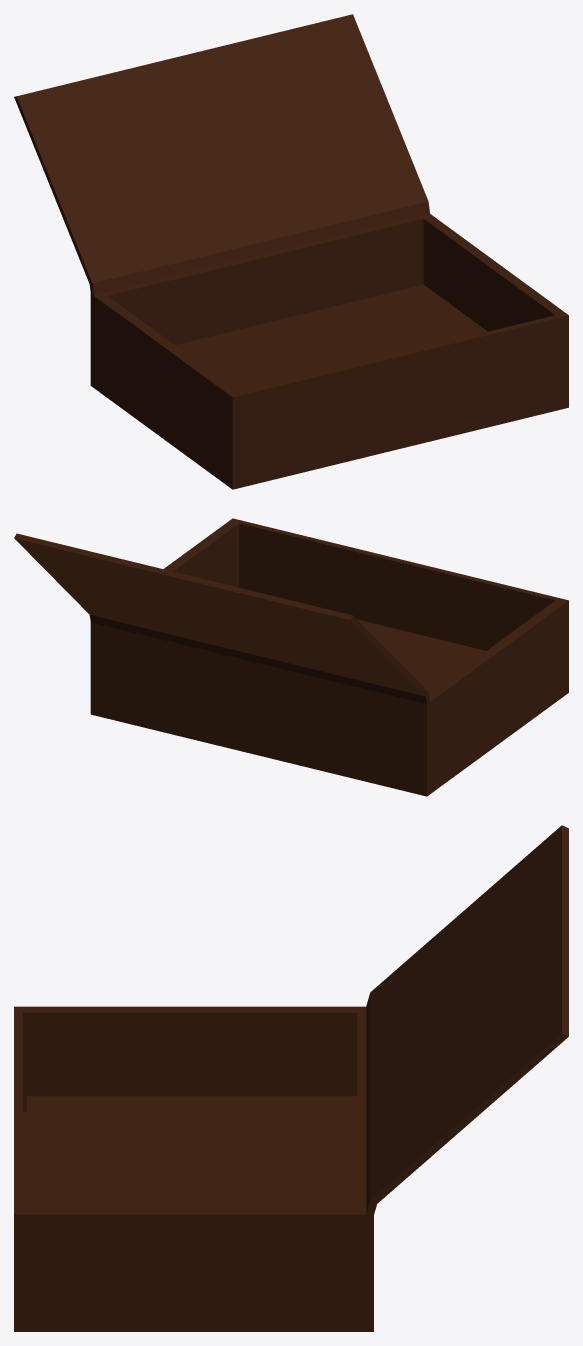
The model's file is pudełko.fbx.
The picture shows the model from 3 angles, top to bottom: view 1: azimuth 30°, elevation 25°; view 2: azimuth 150°, elevation 25°; view 3: azimuth 270°, elevation 25°; orthographic projection. The views are drawn at different scales.
Parts seen in each view (by area): view 1: Pudełko od cukru001; view 2: Pudełko od cukru001; view 3: Pudełko od cukru001.
Part boxes in pixels (left/top/right/bottom): Pudełko od cukru001: left=14, top=14, right=568, bottom=489; Pudełko od cukru001: left=14, top=518, right=568, bottom=796; Pudełko od cukru001: left=14, top=825, right=568, bottom=1331.
Bounding box in the file's own units: 9.11 × 6.09 × 10.27.
